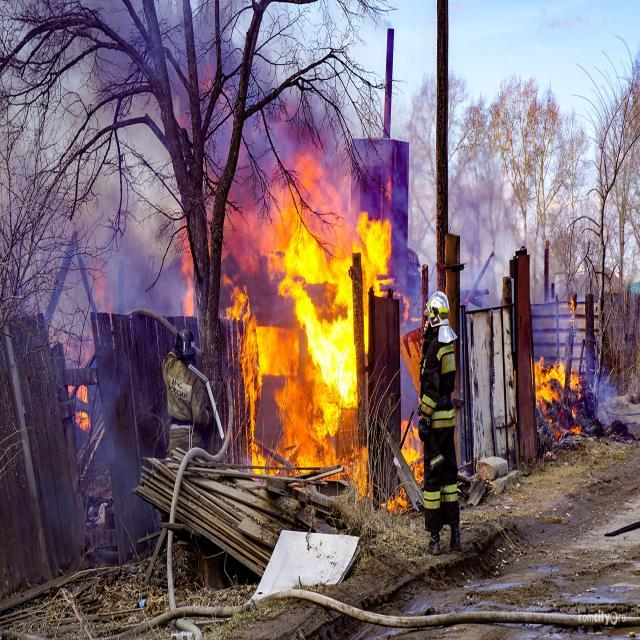Fire: (226, 216, 391, 500), (380, 422, 423, 520), (530, 357, 582, 417), (341, 444, 368, 498), (76, 382, 91, 440)
Smoke: (76, 0, 338, 314), (446, 167, 518, 305)
